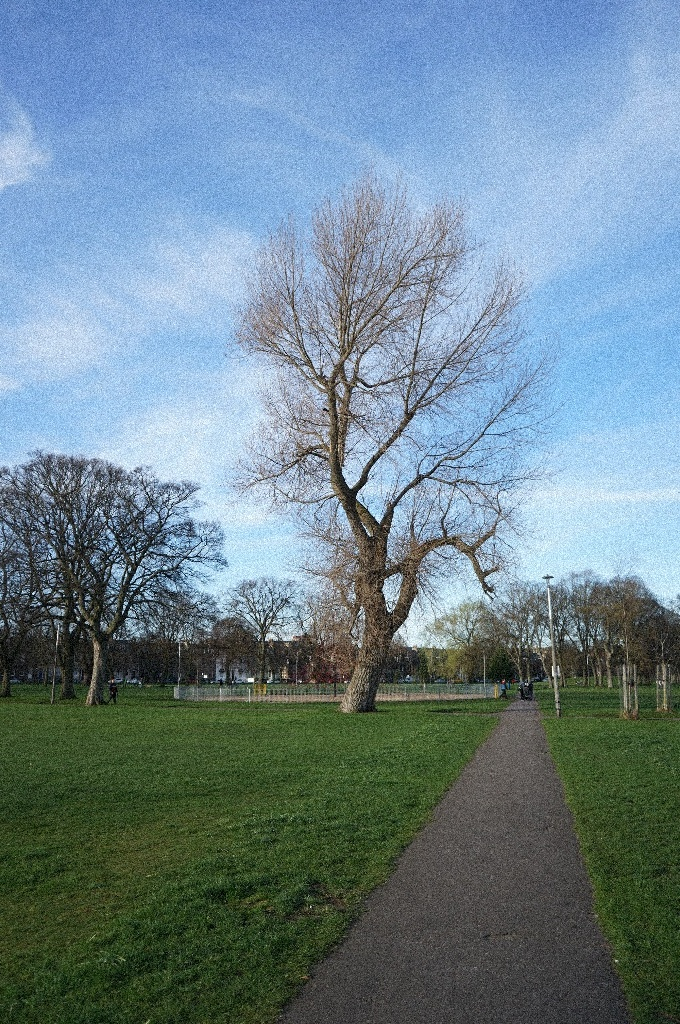Tree: (183, 163, 564, 725), (0, 449, 227, 726), (402, 544, 679, 730), (216, 569, 312, 701)
